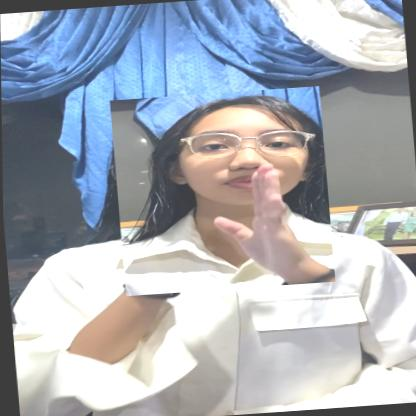Talk: (109, 86, 335, 296)
